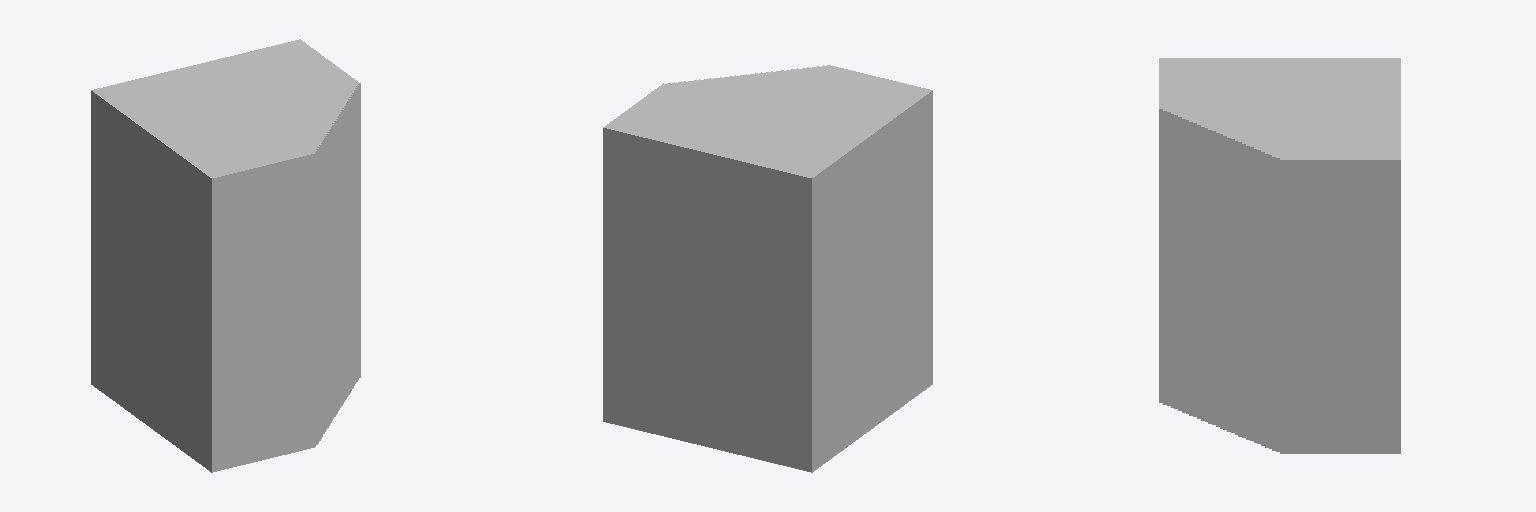
File: case_13.obj
The picture shows the model from 3 angles: view 1: azimuth 30°, elevation 25°; view 2: azimuth 150°, elevation 25°; view 3: azimuth 270°, elevation 25°; orthographic projection.
Parts seen in each view (by area): view 1: Untitled; view 2: Untitled; view 3: Untitled.
Boxes of the visible parts, <box> form: Untitled: <box>91,39,360,472</box>; Untitled: <box>603,65,932,472</box>; Untitled: <box>1159,58,1400,453</box>.
Size of the model in its own units: 6.4 by 8.6 by 6.4.